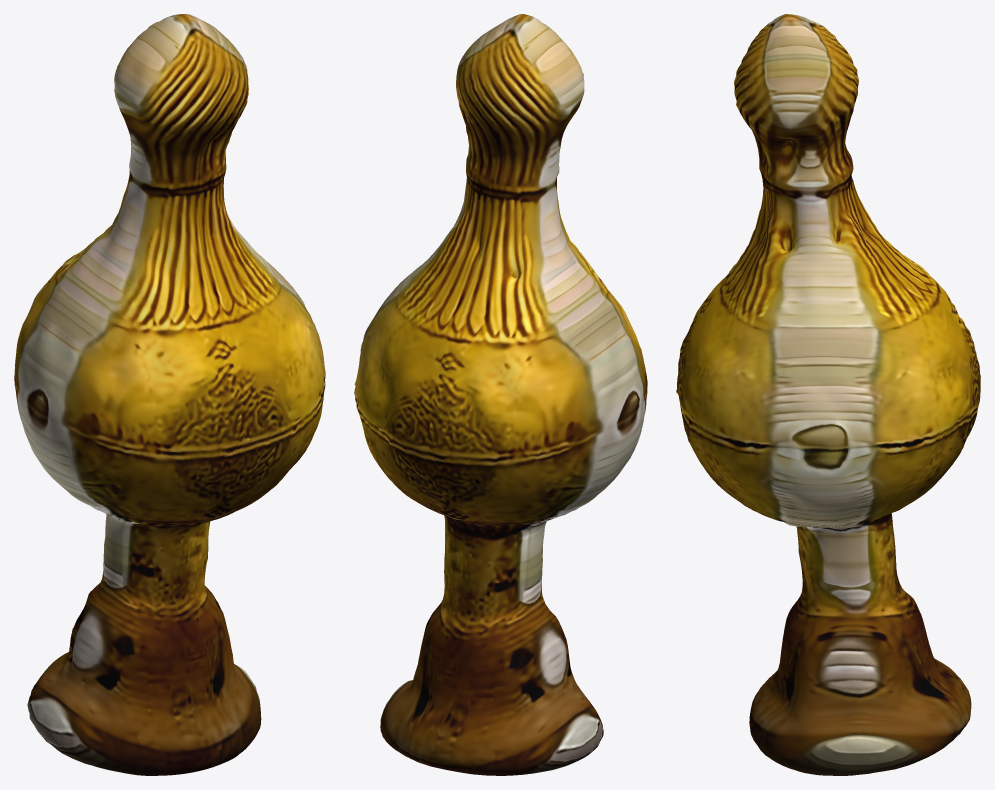
Rendered from kfl-2289.glb.
3 views of the same model, side by side, from view 1: azimuth 30°, elevation 25°; view 2: azimuth 150°, elevation 25°; view 3: azimuth 270°, elevation 25° (orthographic). The views are drawn at different scales.
Visible parts, largest first — view 1: kfl-2289; view 2: kfl-2289; view 3: kfl-2289.
Boxes of the visible parts, box(x1,y1,x2,y2) form: kfl-2289: box(14, 14, 325, 775); kfl-2289: box(354, 14, 647, 775); kfl-2289: box(676, 14, 980, 775).
Bounding box in the file's own units: 0.3748 × 0.9928 × 0.3769.
1 material, 1 textured.
